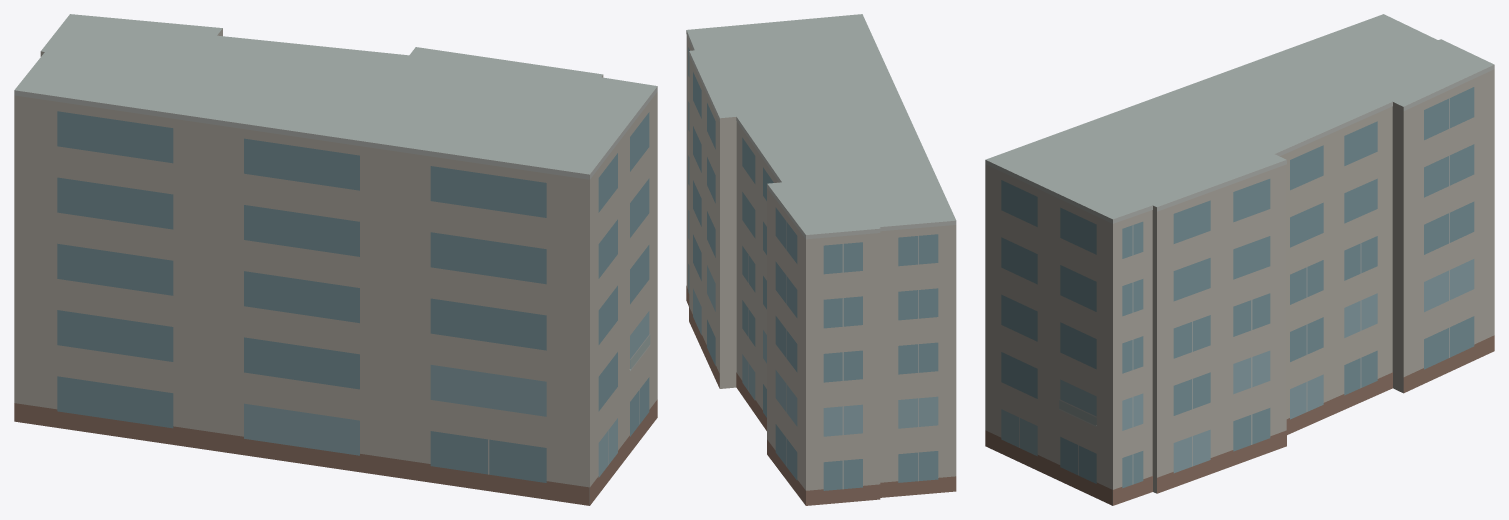
File: survey-upis-32675483.glb
The picture shows the model from 3 angles, left to right: view 1: azimuth 30°, elevation 25°; view 2: azimuth 150°, elevation 25°; view 3: azimuth 270°, elevation 25°; orthographic projection. The views are drawn at different scales.
Parts seen in each view (by area): view 1: survey-upis-32675483.tmp; view 2: survey-upis-32675483.tmp; view 3: survey-upis-32675483.tmp.
Part boxes in pixels (x1,y1,x2,y2): survey-upis-32675483.tmp: (14, 14, 657, 505); survey-upis-32675483.tmp: (686, 14, 956, 505); survey-upis-32675483.tmp: (985, 14, 1494, 505).
Size of the model in its own units: 24 by 15.6 by 25.14.
